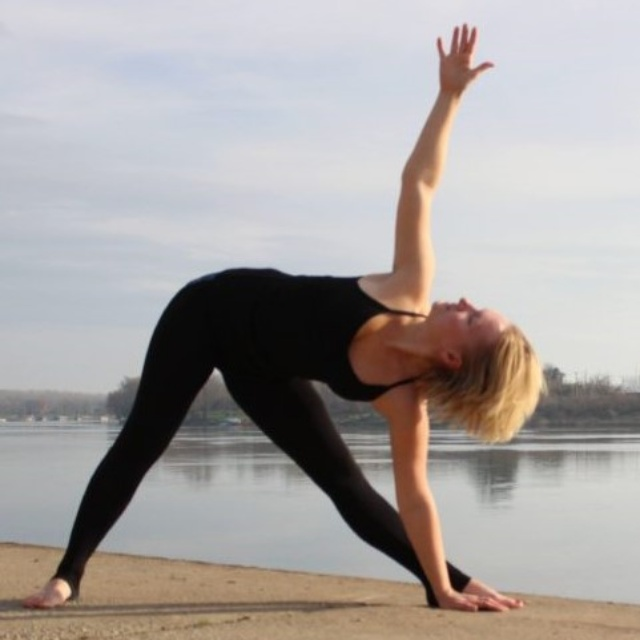Triangle_Pose: (33, 17, 538, 617)
